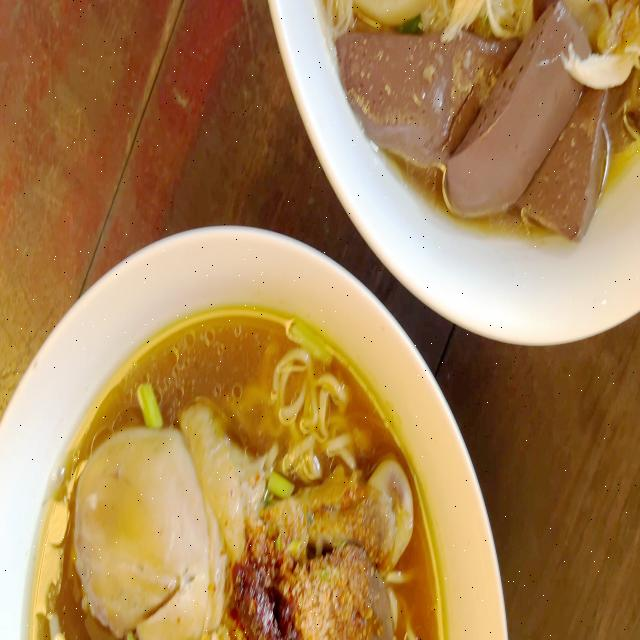boiled_chicken_blood_jelly: (344, 31, 610, 214)
chicken_drumstick: (68, 418, 402, 603)
noodle: (9, 288, 454, 640), (296, 0, 640, 238)
